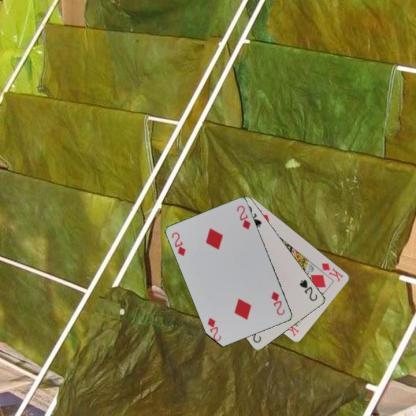2d: (268, 289, 286, 317), (169, 230, 187, 257)
2s: (297, 276, 319, 302)
Kd: (318, 260, 344, 283)
